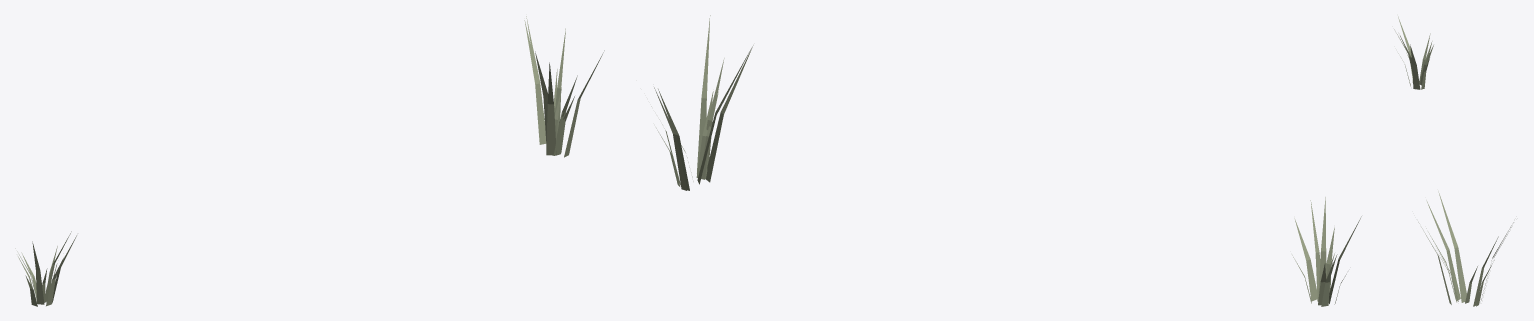
Rendered from AE_Grass_0_3.fbx.
3 renders of one model, left to right at view 1: azimuth 30°, elevation 25°; view 2: azimuth 150°, elevation 25°; view 3: azimuth 270°, elevation 25°, orthographic. The views are drawn at different scales.
Visible parts, largest first — view 1: AE_Grass_0_3_LOD0; view 2: AE_Grass_0_3_LOD0; view 3: AE_Grass_0_3_LOD0.
Part boxes in pixels (x1,y1,x2,y2): AE_Grass_0_3_LOD0: (15,16,604,306); AE_Grass_0_3_LOD0: (651,15,1361,306); AE_Grass_0_3_LOD0: (1394,16,1513,306).
Size of what is drawn, in the model's own units: 338 by 66.86 by 76.95.
